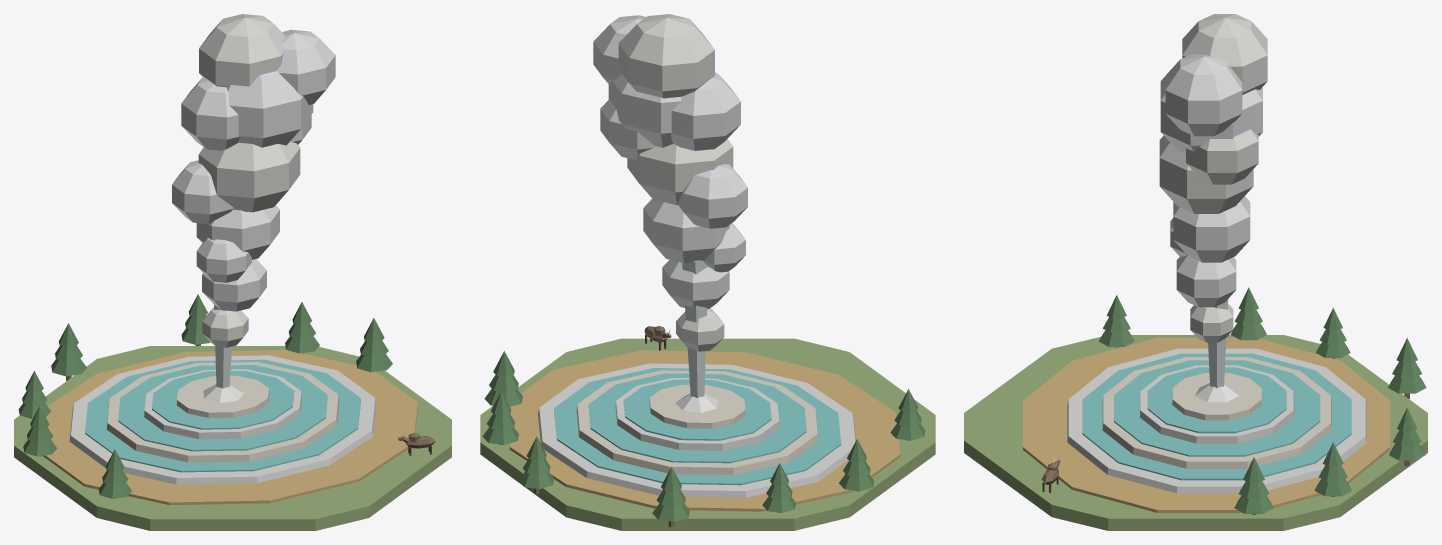
The model's file is old-faithful.glb.
3 views of the same model, side by side, from view 1: azimuth 30°, elevation 25°; view 2: azimuth 150°, elevation 25°; view 3: azimuth 270°, elevation 25° (orthographic). The views are drawn at different scales.
Parts seen in each view (by area): view 1: LOD0; view 2: LOD0; view 3: LOD0.
Part boxes in pixels (x1,y1,x2,y2): LOD0: (14,14,451,530); LOD0: (480,14,935,530); LOD0: (964,14,1427,530).
Size of what is drawn, in the model's own units: 1.7 by 1.82 by 1.76.
